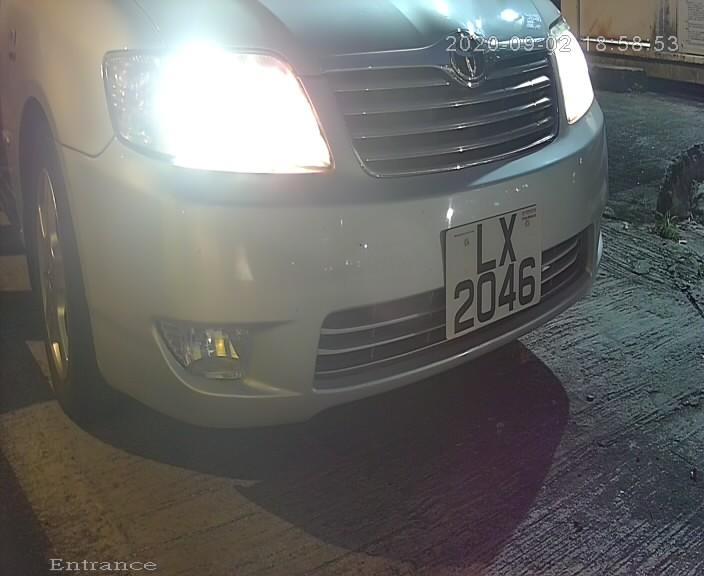License Plate: (437, 193, 551, 355)
